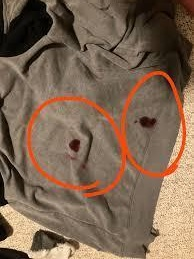ink: (138, 116, 156, 129), (68, 139, 79, 153)
